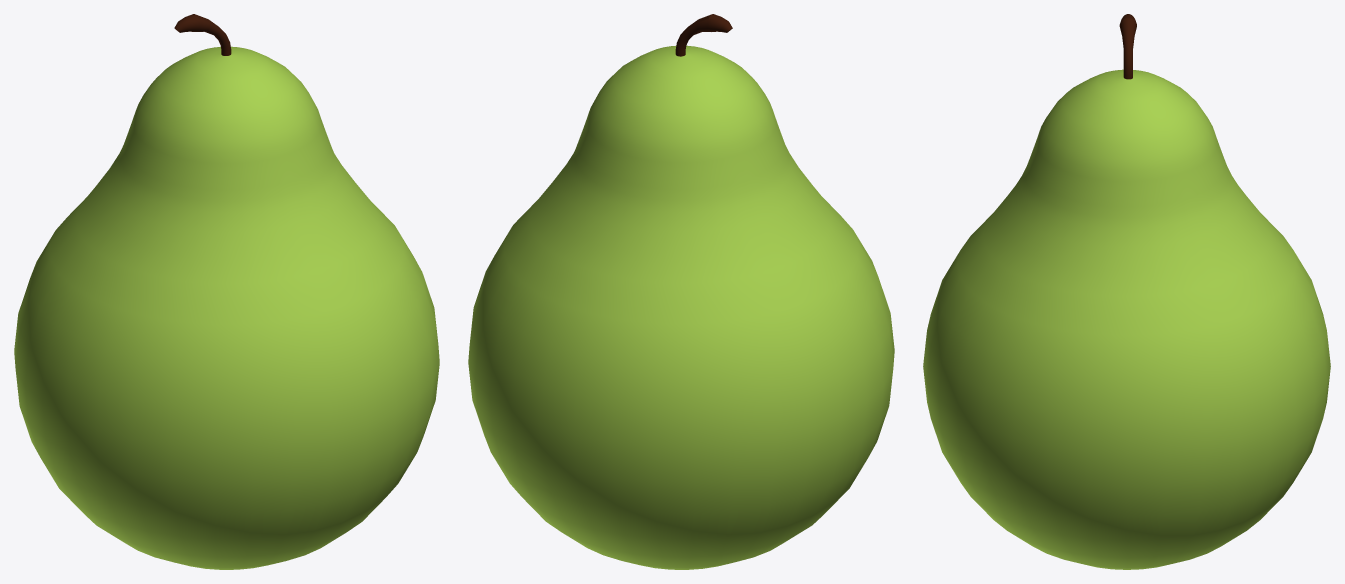
File: pear.obj
The picture shows the model from 3 angles, left to right: view 1: azimuth 30°, elevation 25°; view 2: azimuth 150°, elevation 25°; view 3: azimuth 270°, elevation 25°; orthographic projection. The views are drawn at different scales.
Parts seen in each view (by area): view 1: Sphere.001, Cylinder; view 2: Sphere.001, Cylinder; view 3: Sphere.001, Cylinder.
Boxes of the visible parts, box(x1,y1,x2,y2) form: Sphere.001: box(14, 46, 439, 569); Cylinder: box(174, 14, 231, 55); Sphere.001: box(468, 45, 894, 569); Cylinder: box(675, 14, 732, 56); Sphere.001: box(923, 69, 1330, 569); Cylinder: box(1119, 14, 1136, 79).
Bounding box in the file's own units: 2 × 2.81 × 2.
